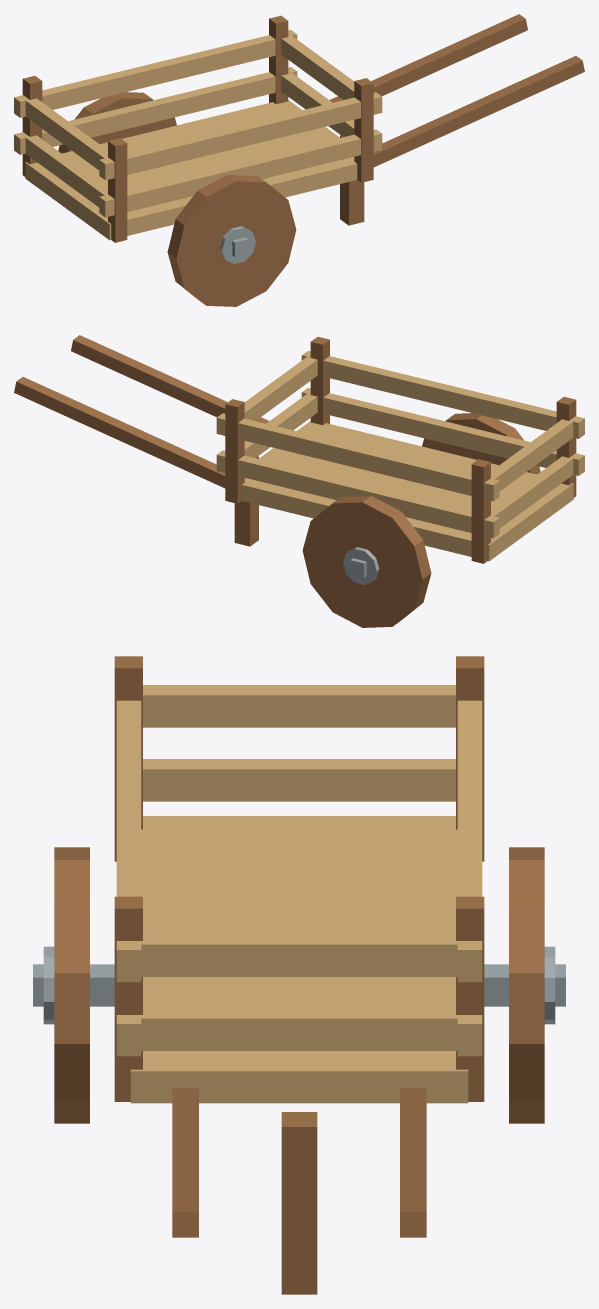
File: TR3_Cart_Wooden_Handcart.glb
The picture shows the model from 3 angles, top to bottom: view 1: azimuth 30°, elevation 25°; view 2: azimuth 150°, elevation 25°; view 3: azimuth 270°, elevation 25°; orthographic projection. The views are drawn at different scales.
Visible parts, largest first — view 1: TR3_Cart_Wooden_Handcart; view 2: TR3_Cart_Wooden_Handcart; view 3: TR3_Cart_Wooden_Handcart.
Boxes of the visible parts, x1=… form: TR3_Cart_Wooden_Handcart: x1=14, y1=14, x2=584, y2=306; TR3_Cart_Wooden_Handcart: x1=14, y1=335, x2=584, y2=627; TR3_Cart_Wooden_Handcart: x1=33, y1=656, x2=565, y2=1294.
Size of the model in its own units: 3.21 by 1.1 by 1.5.
